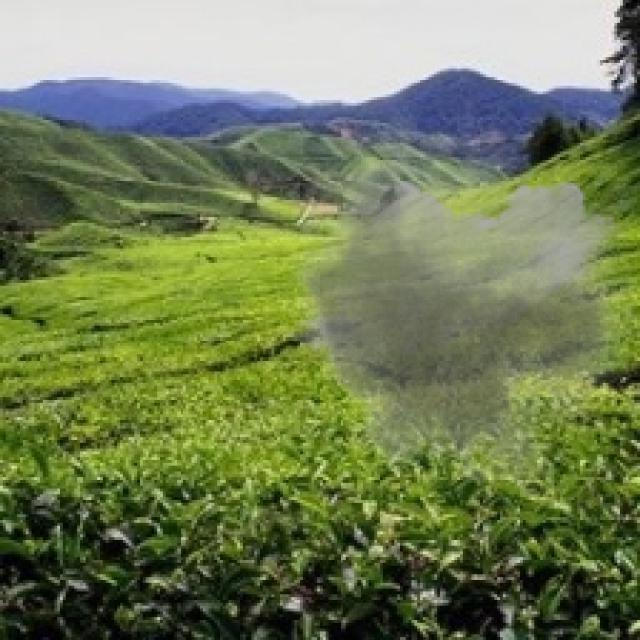Smoke: (277, 97, 637, 512)
